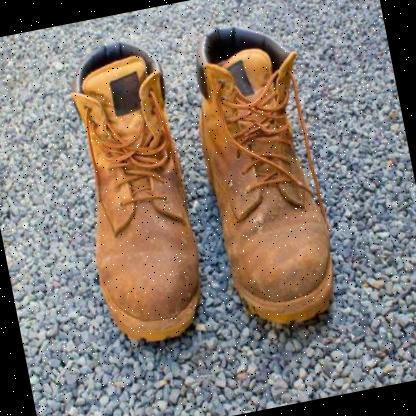bota: (40, 3, 352, 362)
